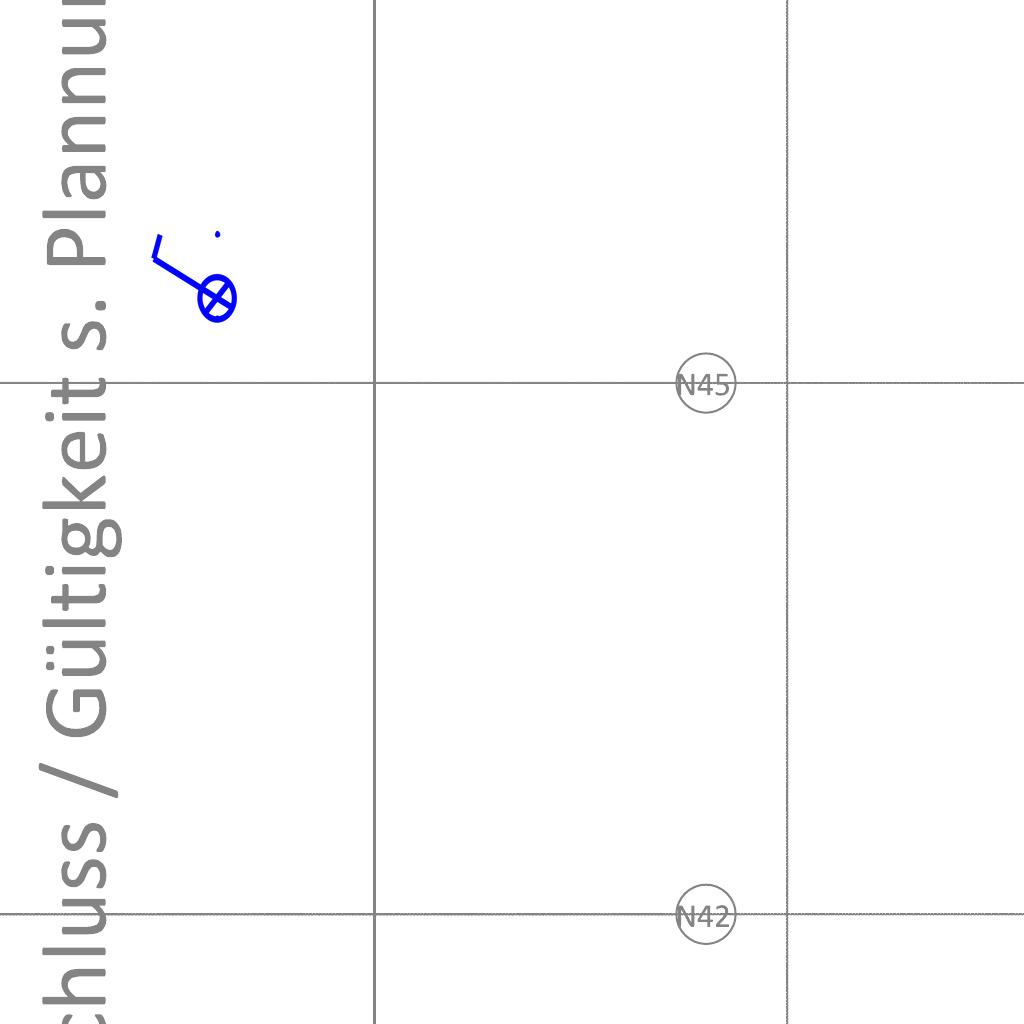Ausschalter_beleuchtet: (143, 225, 239, 337)
